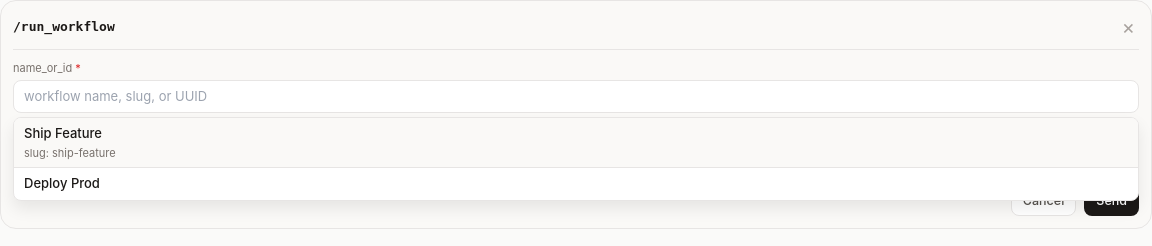
Test: SlashForm › disables Send until required args are filled
Check: the button "Send" is disabled, box [1084,186,1139,216]
Type "wf-1" into the field at (576, 96), box [13,80,1139,113]
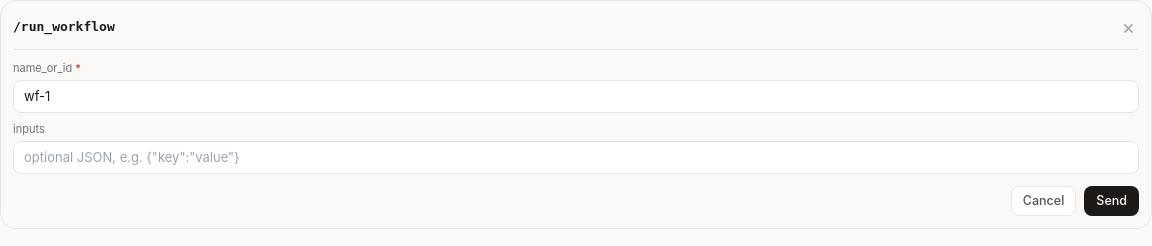
Check: the button "Send" is enabled, box [1084,186,1139,216]
